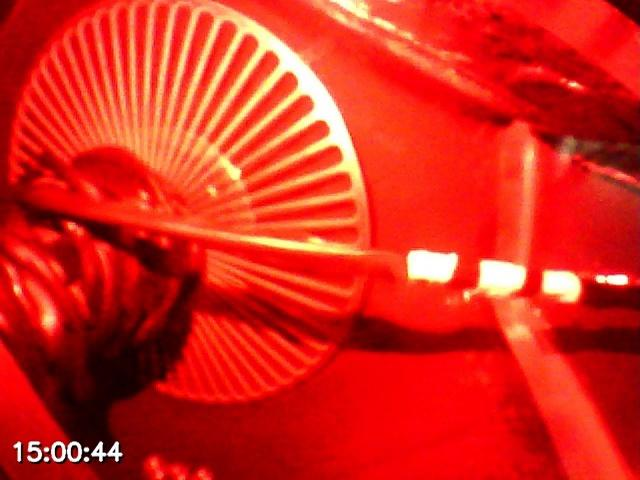white-dots: (406, 248, 582, 305)
